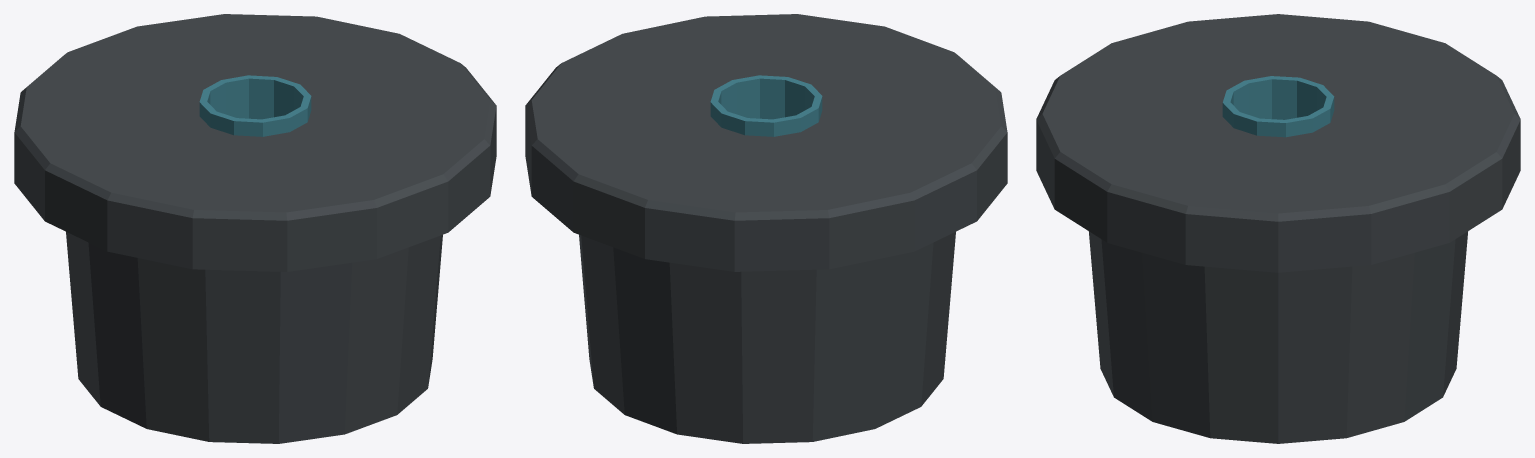
The model's file is VLAB_stopper.fbx.
3 renders of one model, left to right at view 1: azimuth 30°, elevation 25°; view 2: azimuth 150°, elevation 25°; view 3: azimuth 270°, elevation 25°, orthographic.
Parts seen in each view (by area): view 1: VLAB_stopper_Stopper_VIS, VLAB_stopper_Port1_VIS; view 2: VLAB_stopper_Stopper_VIS, VLAB_stopper_Port1_VIS; view 3: VLAB_stopper_Stopper_VIS, VLAB_stopper_Port1_VIS.
Part boxes in pixels (bbox=[...]): VLAB_stopper_Stopper_VIS: bbox=[14, 14, 496, 443]; VLAB_stopper_Port1_VIS: bbox=[199, 75, 311, 136]; VLAB_stopper_Stopper_VIS: bbox=[525, 14, 1007, 443]; VLAB_stopper_Port1_VIS: bbox=[710, 75, 822, 136]; VLAB_stopper_Stopper_VIS: bbox=[1036, 14, 1520, 443]; VLAB_stopper_Port1_VIS: bbox=[1222, 76, 1334, 137].
Size of the model in its own units: 0.031 by 0.019 by 0.031.
